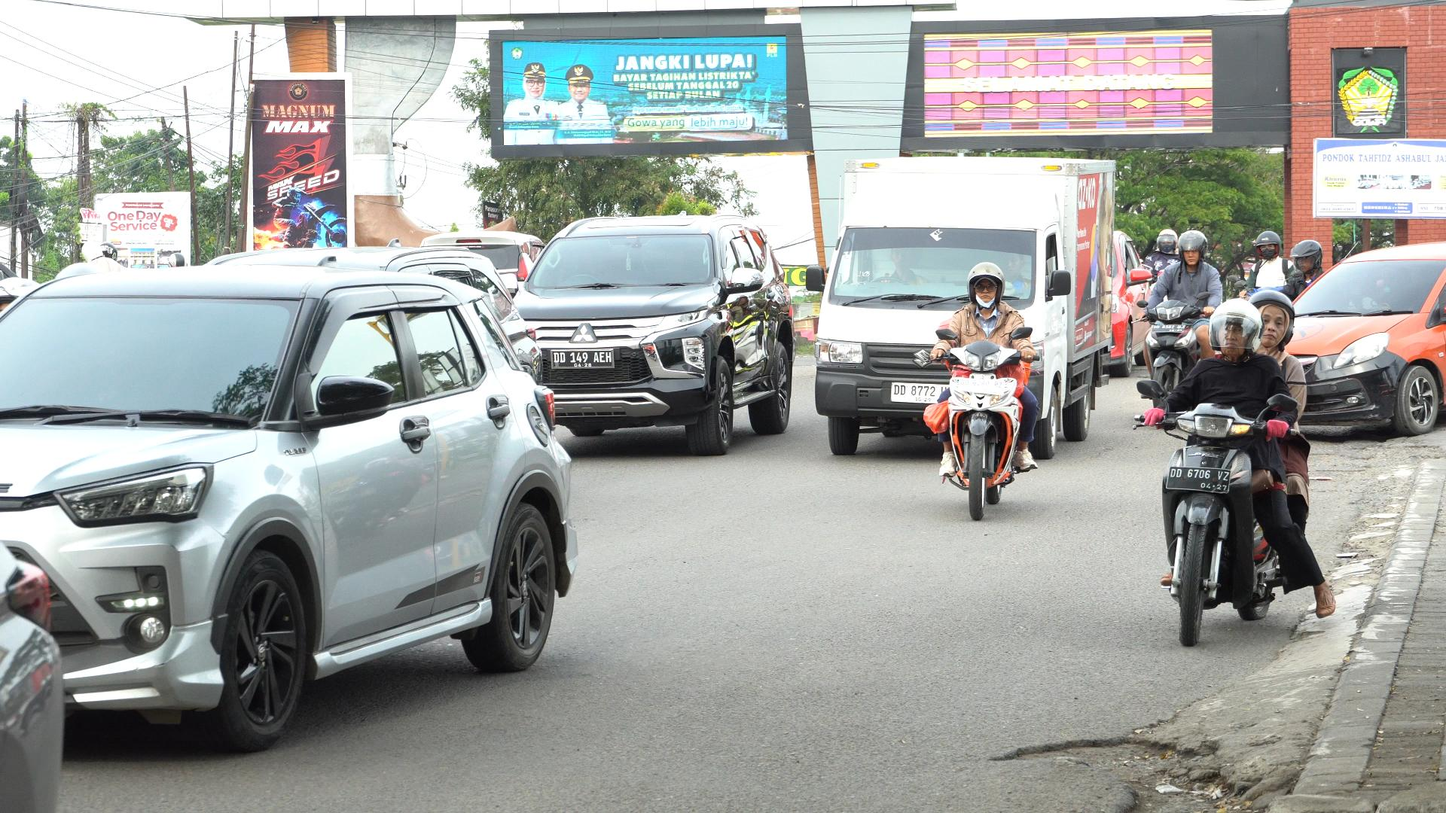number-plate: (1161, 458, 1238, 501)
